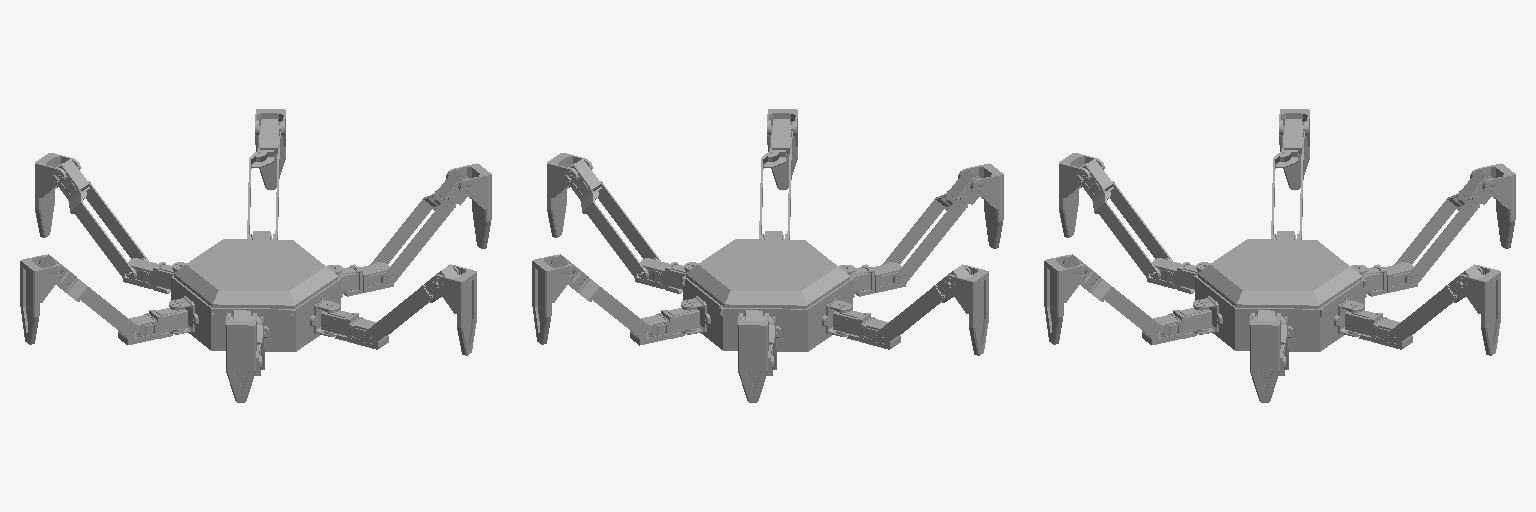
--- Facts derived from the render (not from the file) ---
3 views of the same robot in one strip: view 1: azimuth 30°, elevation 25°; view 2: azimuth 150°, elevation 25°; view 3: azimuth 270°, elevation 25° (orthographic).
Model hexapod_description with 25 links and 24 joints (17 revolute, 1 continuous, 6 fixed), rooted at base_link, posed every joint at zero.
Links seen in each view (by area): view 1: base_link, 5B_link, 3B_link, 1P_link, 2B_link, 6C_link, 6B_link, 2C_link, 4B_link, 2A_link, 6A_link, 5A_link (+6 smaller); view 2: base_link, 1B_link, 5B_link, 3C_link, 4B_link, 2B_link, 2C_link, 4C_link, 6B_link, 1C_link, 4A_link, 2A_link (+7 smaller); view 3: base_link, 3B_link, 1B_link, 5C_link, 6B_link, 4C_link, 4B_link, 6C_link, 1C_link, 2B_link, 6A_link, 4A_link (+5 smaller).
Boxes of the visible links, x1,y1,x2,y2 form: base_link: (169,239,342,351); 5B_link: (370,168,469,286); 3B_link: (56,159,148,281); 1P_link: (226,313,256,402); 2B_link: (37,254,143,341); 6C_link: (431,266,476,355); 6B_link: (361,264,460,346); 2C_link: (20,255,65,344); 4B_link: (247,119,280,239); 2A_link: (118,308,187,344); 6A_link: (321,310,388,349); 5A_link: (338,262,393,296); base_link: (681,239,854,351); 1B_link: (882,168,981,286); 5B_link: (568,159,660,281); 3C_link: (738,313,768,402); 4B_link: (549,254,655,341); 2B_link: (873,264,972,346); 2C_link: (943,266,988,355); 4C_link: (532,255,577,344); 6B_link: (759,119,792,239); 1C_link: (958,163,1002,247); 4A_link: (630,308,699,345); 2A_link: (833,310,900,349); base_link: (1193,239,1366,351); 3B_link: (1394,168,1493,286); 1B_link: (1080,159,1172,281); 5C_link: (1250,313,1280,402); 6B_link: (1061,254,1167,341); 4C_link: (1455,266,1500,355); 4B_link: (1385,264,1484,346); 6C_link: (1044,255,1089,344); 1C_link: (1059,153,1104,237); 2B_link: (1271,119,1304,239); 6A_link: (1142,308,1211,344); 4A_link: (1345,310,1412,349).
Size in the robot's own frame: 0.7251 by 0.6664 by 0.1652 metres.
25 mesh visuals loaded from 25 distinct referenced files (25 binary STL).

The robot description file, URDF, robot "hexapod_description":
<?xml version="1.0" encoding="utf-8"?>
<robot
  name="hexapod_description">
  <link
    name="base_link">
    <inertial>
      <origin
        xyz="8.3132949968423E-09 -1.60645398483705E-07 0.0398545694413555"
        rpy="0 0 0" />
      <mass
        value="0.508188386188677" />
      <inertia
        ixx="0.00175052303771207"
        ixy="-2.89062175548116E-06"
        ixz="2.99462448397941E-10"
        iyy="0.00174770751625814"
        iyz="-7.33217095029747E-09"
        izz="0.00325955756407988" />
    </inertial>
    <visual>
      <origin
        xyz="0 0 0"
        rpy="0 0 0" />
      <geometry>
        <mesh
          filename="package://hexapod_description/meshes/base_link.STL" />
      </geometry>
      <material
        name="">
        <color
          rgba="0.698039215686274 0.698039215686274 0.698039215686274 1" />
      </material>
    </visual>
    <collision>
      <origin
        xyz="0 0 0"
        rpy="0 0 0" />
      <geometry>
        <mesh
          filename="package://hexapod_description/meshes/base_link.STL" />
      </geometry>
    </collision>
  </link>
  <link
    name="1A_link">
    <inertial>
      <origin
        xyz="0.0436333077262725 -0.000983429050531615 -0.00579099697381125"
        rpy="0 0 0" />
      <mass
        value="0.0329624380889454" />
      <inertia
        ixx="4.11063607279416E-06"
        ixy="2.02839323084862E-07"
        ixz="6.13000252409731E-07"
        iyy="1.17840539365979E-05"
        iyz="-2.65175105562365E-08"
        izz="1.16182136839027E-05" />
    </inertial>
    <visual>
      <origin
        xyz="0 0 0"
        rpy="0 0 0" />
      <geometry>
        <mesh
          filename="package://hexapod_description/meshes/1A_link.STL" />
      </geometry>
      <material
        name="">
        <color
          rgba="0.698039215686274 0.698039215686274 0.698039215686274 1" />
      </material>
    </visual>
    <collision>
      <origin
        xyz="0 0 0"
        rpy="0 0 0" />
      <geometry>
        <mesh
          filename="package://hexapod_description/meshes/1A_link.STL" />
      </geometry>
    </collision>
  </link>
  <joint
    name="1A_joint"
    type="revolute">
    <origin
      xyz="-0.066747 -0.10678 0.03165"
      rpy="0 0.035739 -2.1204" />
    <parent
      link="base_link" />
    <child
      link="1A_link" />
    <axis
      xyz="-0.035728 0 0.99936" />
    <limit
      lower="-1"
      upper="1"
      effort="0"
      velocity="0" />
  </joint>
  <link
    name="1B_link">
    <inertial>
      <origin
        xyz="0.101870838528152 -0.00274030558914196 -0.00335041003005071"
        rpy="0 0 0" />
      <mass
        value="0.0491658077507467" />
      <inertia
        ixx="7.62687797343541E-06"
        ixy="1.36433680022234E-05"
        ixz="6.32130646997768E-06"
        iyy="9.61295518656803E-05"
        iyz="-1.69463851792476E-06"
        izz="9.79816595400282E-05" />
    </inertial>
    <visual>
      <origin
        xyz="0 0 0"
        rpy="0 0 0" />
      <geometry>
        <mesh
          filename="package://hexapod_description/meshes/1B_link.STL" />
      </geometry>
      <material
        name="">
        <color
          rgba="0.698039215686274 0.698039215686274 0.698039215686274 1" />
      </material>
    </visual>
    <collision>
      <origin
        xyz="0 0 0"
        rpy="0 0 0" />
      <geometry>
        <mesh
          filename="package://hexapod_description/meshes/1B_link.STL" />
      </geometry>
    </collision>
  </link>
  <joint
    name="1B_joint"
    type="revolute">
    <origin
      xyz="0.075536 -0.001836 0"
      rpy="0.00047569 -0.82122 -0.0094139" />
    <parent
      link="1A_link" />
    <child
      link="1B_link" />
    <axis
      xyz="0 -1 0" />
    <limit
      lower="-1"
      upper="1"
      effort="0"
      velocity="0" />
  </joint>
  <link
    name="1C_link">
    <inertial>
      <origin
        xyz="0.0396589922531539 -0.000979703305875712 0.0183007881130968"
        rpy="0 0 0" />
      <mass
        value="0.0681025572602457" />
      <inertia
        ixx="1.84805656449333E-05"
        ixy="-2.67788613280572E-07"
        ixz="1.32337376294039E-05"
        iyy="7.41762250523367E-05"
        iyz="-9.11230813138536E-08"
        izz="7.94157570878884E-05" />
    </inertial>
    <visual>
      <origin
        xyz="0 0 0"
        rpy="0 0 0" />
      <geometry>
        <mesh
          filename="package://hexapod_description/meshes/1C_link.STL" />
      </geometry>
      <material
        name="">
        <color
          rgba="0.698039215686274 0.698039215686274 0.698039215686274 1" />
      </material>
    </visual>
    <collision>
      <origin
        xyz="0 0 0"
        rpy="0 0 0" />
      <geometry>
        <mesh
          filename="package://hexapod_description/meshes/1C_link.STL" />
      </geometry>
    </collision>
  </link>
  <joint
    name="1C_joint"
    type="revolute">
    <origin
      xyz="0.17108 -0.00665 0"
      rpy="3.1416 1.0908 3.1416" />
    <parent
      link="1B_link" />
    <child
      link="1C_link" />
    <axis
      xyz="0 -1 0" />
    <limit
      lower="-1"
      upper="1"
      effort="0"
      velocity="0" />
  </joint>
  <link
    name="1P_link">
    <inertial>
      <origin
        xyz="-0.0774005193641238 -0.000101516346325103 -0.00446200209805514"
        rpy="0 0 0" />
      <mass
        value="0.065522052028268" />
      <inertia
        ixx="1.63167104597987E-05"
        ixy="-2.27987502279929E-07"
        ixz="-6.6373217611144E-06"
        iyy="7.40141018310191E-05"
        iyz="-1.67439121756891E-07"
        izz="8.14120915733197E-05" />
    </inertial>
    <visual>
      <origin
        xyz="0 0 0"
        rpy="0 0 0" />
      <geometry>
        <mesh
          filename="package://hexapod_description/meshes/1P_link.STL" />
      </geometry>
      <material
        name="">
        <color
          rgba="0.698039215686274 0.698039215686274 0.698039215686274 1" />
      </material>
    </visual>
    <collision>
      <origin
        xyz="0 0 0"
        rpy="0 0 0" />
      <geometry>
        <mesh
          filename="package://hexapod_description/meshes/1P_link.STL" />
      </geometry>
    </collision>
  </link>
  <joint
    name="1P_joint"
    type="fixed">
    <origin
      xyz="0.11638 -0.00085 0"
      rpy="0 0.30547 0" />
    <parent
      link="1C_link" />
    <child
      link="1P_link" />
    <axis
      xyz="0 0 0" />
    <limit
      lower="-1"
      upper="1"
      effort="0"
      velocity="0" />
  </joint>
  <link
    name="2A_link">
    <inertial>
      <origin
        xyz="0.0430928267092412 -0.00540497612153903 0.0129538457442289"
        rpy="0 0 0" />
      <mass
        value="0.0329624385476769" />
      <inertia
        ixx="4.2842650710344E-06"
        ixy="9.70938519171719E-07"
        ixz="8.71458885550921E-07"
        iyy="1.16637820306486E-05"
        iyz="-1.23301625642984E-07"
        izz="1.15648566711477E-05" />
    </inertial>
    <visual>
      <origin
        xyz="0 0 0"
        rpy="0 0 0" />
      <geometry>
        <mesh
          filename="package://hexapod_description/meshes/2A_link.STL" />
      </geometry>
      <material
        name="">
        <color
          rgba="0.698039215686274 0.698039215686274 0.698039215686274 1" />
      </material>
    </visual>
    <collision>
      <origin
        xyz="0 0 0"
        rpy="0 0 0" />
      <geometry>
        <mesh
          filename="package://hexapod_description/meshes/2A_link.STL" />
      </geometry>
    </collision>
  </link>
  <joint
    name="2A_joint"
    type="continuous">
    <origin
      xyz="-0.12582 0.0044184 0.01135"
      rpy="0 0 -3.0654" />
    <parent
      link="base_link" />
    <child
      link="2A_link" />
    <axis
      xyz="0 0 1" />
    <limit
      lower="-1"
      upper="1"
      effort="0"
      velocity="0" />
  </joint>
  <link
    name="2B_link">
    <inertial>
      <origin
        xyz="0.101870758188408 -0.00274030552288767 -0.00335286713403343"
        rpy="0 0 0" />
      <mass
        value="0.0491658081930703" />
      <inertia
        ixx="7.62718300402873E-06"
        ixy="1.36433271242108E-05"
        ixz="6.32348587175763E-06"
        iyy="9.6129551905895E-05"
        iyz="-1.69496760520903E-06"
        izz="9.79813545530303E-05" />
    </inertial>
    <visual>
      <origin
        xyz="0 0 0"
        rpy="0 0 0" />
      <geometry>
        <mesh
          filename="package://hexapod_description/meshes/2B_link.STL" />
      </geometry>
      <material
        name="">
        <color
          rgba="0.698039215686274 0.698039215686274 0.698039215686274 1" />
      </material>
    </visual>
    <collision>
      <origin
        xyz="0 0 0"
        rpy="0 0 0" />
      <geometry>
        <mesh
          filename="package://hexapod_description/meshes/2B_link.STL" />
      </geometry>
    </collision>
  </link>
  <joint
    name="2B_joint"
    type="revolute">
    <origin
      xyz="0.074928 -0.009527 0.017601"
      rpy="0 -0.78551 -0.11127" />
    <parent
      link="2A_link" />
    <child
      link="2B_link" />
    <axis
      xyz="0 -1 0" />
    <limit
      lower="-1"
      upper="1"
      effort="0"
      velocity="0" />
  </joint>
  <link
    name="2C_link">
    <inertial>
      <origin
        xyz="0.0396696358786118 -0.000979703306244147 0.0182899254696576"
        rpy="0 0 0" />
      <mass
        value="0.068102557260246" />
      <inertia
        ixx="1.84768194960925E-05"
        ixy="-2.67775709069847E-07"
        ixz="1.3225109652228E-05"
        iyy="7.41762250523362E-05"
        iyz="-9.11609949592177E-08"
        izz="7.94195032367302E-05" />
    </inertial>
    <visual>
      <origin
        xyz="0 0 0"
        rpy="0 0 0" />
      <geometry>
        <mesh
          filename="package://hexapod_description/meshes/2C_link.STL" />
      </geometry>
      <material
        name="">
        <color
          rgba="0.698039215686274 0.698039215686274 0.698039215686274 1" />
      </material>
    </visual>
    <collision>
      <origin
        xyz="0 0 0"
        rpy="0 0 0" />
      <geometry>
        <mesh
          filename="package://hexapod_description/meshes/2C_link.STL" />
      </geometry>
    </collision>
  </link>
  <joint
    name="2C_joint"
    type="revolute">
    <origin
      xyz="0.1711 -0.00665 0"
      rpy="-3.1416 1.0906 -3.1416" />
    <parent
      link="2B_link" />
    <child
      link="2C_link" />
    <axis
      xyz="0 -1 0" />
    <limit
      lower="-1"
      upper="1"
      effort="0"
      velocity="0" />
  </joint>
  <link
    name="2P_link">
    <inertial>
      <origin
        xyz="-0.0774005193641238 -0.000101517727919047 -0.00446200215131309"
        rpy="0 0 0" />
      <mass
        value="0.0655220520282681" />
      <inertia
        ixx="1.63167104597985E-05"
        ixy="-2.27987461896302E-07"
        ixz="-6.63732176250068E-06"
        iyy="7.40141018330569E-05"
        iyz="-1.67439166770418E-07"
        izz="8.14120915712826E-05" />
    </inertial>
    <visual>
      <origin
        xyz="0 0 0"
        rpy="0 0 0" />
      <geometry>
        <mesh
          filename="package://hexapod_description/meshes/2P_link.STL" />
      </geometry>
      <material
        name="">
        <color
          rgba="0.698039215686274 0.698039215686274 0.698039215686274 1" />
      </material>
    </visual>
    <collision>
      <origin
        xyz="0 0 0"
        rpy="0 0 0" />
      <geometry>
        <mesh
          filename="package://hexapod_description/meshes/2P_link.STL" />
      </geometry>
    </collision>
  </link>
  <joint
    name="2P_joint"
    type="fixed">
    <origin
      xyz="0.11639 -0.00085 0"
      rpy="0 0.30533 0" />
    <parent
      link="2C_link" />
    <child
      link="2P_link" />
    <axis
      xyz="0 0 0" />
    <limit
      lower="-1"
      upper="1"
      effort="0"
      velocity="0" />
  </joint>
  <link
    name="3A_link">
    <inertial>
      <origin
        xyz="0.0436333079139021 -0.000983433795987143 -0.00579099682872819"
        rpy="0 0 0" />
      <mass
        value="0.0329624385357417" />
      <inertia
        ixx="4.11063610367343E-06"
        ixy="2.02839324882533E-07"
        ixz="6.13000250342798E-07"
        iyy="1.1784053976968E-05"
        iyz="-2.65175120067955E-08"
        izz="1.16182136968584E-05" />
    </inertial>
    <visual>
      <origin
        xyz="0 0 0"
        rpy="0 0 0" />
      <geometry>
        <mesh
          filename="package://hexapod_description/meshes/3A_link.STL" />
      </geometry>
      <material
        name="">
        <color
          rgba="0.698039215686274 0.698039215686274 0.698039215686274 1" />
      </material>
    </visual>
    <collision>
      <origin
        xyz="0 0 0"
        rpy="0 0 0" />
      <geometry>
        <mesh
          filename="package://hexapod_description/meshes/3A_link.STL" />
      </geometry>
    </collision>
  </link>
  <joint
    name="3A_joint"
    type="revolute">
    <origin
      xyz="-0.059099 0.11119 0.03165"
      rpy="0 0.035732 2.0683" />
    <parent
      link="base_link" />
    <child
      link="3A_link" />
    <axis
      xyz="-0.035728 0 0.99936" />
    <limit
      lower="-1"
      upper="1"
      effort="0"
      velocity="0" />
  </joint>
  <link
    name="3B_link">
    <inertial>
      <origin
        xyz="0.101870758152179 -0.0027403055212869 -0.00335286720269334"
        rpy="0 0 0" />
      <mass
        value="0.0491658081987106" />
      <inertia
        ixx="7.62718300690091E-06"
        ixy="1.36433271238362E-05"
        ixz="6.32348589089637E-06"
        iyy="9.61295519062814E-05"
        iyz="-1.69496760811594E-06"
        izz="9.79813545505293E-05" />
    </inertial>
    <visual>
      <origin
        xyz="0 0 0"
        rpy="0 0 0" />
      <geometry>
        <mesh
          filename="package://hexapod_description/meshes/3B_link.STL" />
      </geometry>
      <material
        name="">
        <color
          rgba="0.698039215686274 0.698039215686274 0.698039215686274 1" />
      </material>
    </visual>
    <collision>
      <origin
        xyz="0 0 0"
        rpy="0 0 0" />
      <geometry>
        <mesh
          filename="package://hexapod_description/meshes/3B_link.STL" />
      </geometry>
    </collision>
  </link>
  <joint
    name="3B_joint"
    type="revolute">
    <origin
      xyz="0.075536 -0.001836 0"
      rpy="0.0004757 -0.82124 -0.0094139" />
    <parent
      link="3A_link" />
    <child
      link="3B_link" />
    <axis
      xyz="5.4838E-05 -1 -5.485E-05" />
    <limit
      lower="-1"
      upper="1"
      effort="0"
      velocity="0" />
  </joint>
  <link
    name="3C_link">
    <inertial>
      <origin
        xyz="0.0396696358757853 -0.000979703304661822 0.0182899254680321"
        rpy="0 0 0" />
      <mass
        value="0.0681025572602457" />
      <inertia
        ixx="1.84768194960843E-05"
        ixy="-2.67775708726413E-07"
        ixz="1.32251096522163E-05"
        iyy="7.41762250523397E-05"
        iyz="-9.11609950489801E-08"
        izz="7.94195032367347E-05" />
    </inertial>
    <visual>
      <origin
        xyz="0 0 0"
        rpy="0 0 0" />
      <geometry>
        <mesh
          filename="package://hexapod_description/meshes/3C_link.STL" />
      </geometry>
      <material
        name="">
        <color
          rgba="0.698039215686274 0.698039215686274 0.698039215686274 1" />
      </material>
    </visual>
    <collision>
      <origin
        xyz="0 0 0"
        rpy="0 0 0" />
      <geometry>
        <mesh
          filename="package://hexapod_description/meshes/3C_link.STL" />
      </geometry>
    </collision>
  </link>
  <joint
    name="3C_joint"
    type="revolute">
    <origin
      xyz="0.1711 -0.00665 0"
      rpy="3.1416 1.0906 3.1416" />
    <parent
      link="3B_link" />
    <child
      link="3C_link" />
    <axis
      xyz="2.3315E-05 -1 7.3974E-05" />
    <limit
      lower="-1"
      upper="1"
      effort="0"
      velocity="0" />
  </joint>
  <link
    name="3P_link">
    <inertial>
      <origin
        xyz="-0.0774005194154543 -0.000101516673262747 -0.00446200216199027"
        rpy="0 0 0" />
      <mass
        value="0.0655220520282678" />
      <inertia
        ixx="1.63167104597984E-05"
        ixy="-2.27987492725121E-07"
        ixz="-6.63732176144121E-06"
        iyy="7.40141018315014E-05"
        iyz="-1.67439132409489E-07"
        izz="8.14120915728379E-05" />
    </inertial>
    <visual>
      <origin
        xyz="0 0 0"
        rpy="0 0 0" />
      <geometry>
        <mesh
          filename="package://hexapod_description/meshes/3P_link.STL" />
      </geometry>
      <material
        name="">
        <color
          rgba="0.698039215686274 0.698039215686274 0.698039215686274 1" />
      </material>
    </visual>
    <collision>
      <origin
        xyz="0 0 0"
        rpy="0 0 0" />
      <geometry>
        <mesh
          filename="package://hexapod_description/meshes/3P_link.STL" />
      </geometry>
    </collision>
  </link>
  <joint
    name="3P_joint"
    type="fixed">
    <origin
      xyz="0.11639 -0.00085 0"
      rpy="0 0.30533 0" />
    <parent
      link="3C_link" />
    <child
      link="3P_link" />
    <axis
      xyz="0 0 0" />
    <limit
      lower="-1"
      upper="1"
      effort="0"
      velocity="0" />
  </joint>
  <link
    name="4A_link">
    <inertial>
      <origin
        xyz="0.0436333077638231 -0.000983426215110494 -0.00579099697327434"
        rpy="0 0 0" />
      <mass
        value="0.0329624380888626" />
      <inertia
        ixx="4.11063607281274E-06"
        ixy="2.02839323083891E-07"
        ixz="6.13000252543518E-07"
        iyy="1.17840539365906E-05"
        iyz="-2.65175105588552E-08"
        izz="1.16182136838759E-05" />
    </inertial>
    <visual>
      <origin
        xyz="0 0 0"
        rpy="0 0 0" />
      <geometry>
        <mesh
          filename="package://hexapod_description/meshes/4A_link.STL" />
      </geometry>
      <material
        name="">
        <color
          rgba="0.698039215686274 0.698039215686274 0.698039215686274 1" />
      </material>
    </visual>
    <collision>
      <origin
        xyz="0 0 0"
        rpy="0 0 0" />
      <geometry>
        <mesh
          filename="package://hexapod_description/meshes/4A_link.STL" />
      </geometry>
    </collision>
  </link>
  <joint
    name="4A_joint"
    type="revolute">
    <origin
      xyz="0.066747 0.10678 0.03165"
      rpy="0 0.035732 1.0212" />
    <parent
      link="base_link" />
    <child
      link="4A_link" />
    <axis
      xyz="-0.035728 0 0.99936" />
    <limit
      lower="-1"
      upper="1"
      effort="0"
      velocity="0" />
  </joint>
  <link
    name="4B_link">
    <inertial>
      <origin
        xyz="0.101870757684529 -0.0027403055893247 -0.00335286721489159"
        rpy="0 0 0" />
      <mass
        value="0.049165807750671" />
      <inertia
        ixx="7.62718297342003E-06"
        ixy="1.36433271225648E-05"
        ixz="6.32348587421055E-06"
        iyy="9.61295518656705E-05"
        iyz="-1.69496760366067E-06"
        izz="9.79813545400391E-05" />
    </inertial>
    <visual>
      <origin
        xyz="0 0 0"
        rpy="0 0 0" />
      <geometry>
        <mesh
          filename="package://hexapod_description/meshes/4B_link.STL" />
      </geometry>
      <material
        name="">
        <color
          rgba="0.698039215686274 0.698039215686274 0.698039215686274 1" />
      </material>
    </visual>
    <collision>
      <origin
        xyz="0 0 0"
        rpy="0 0 0" />
      <geometry>
        <mesh
          filename="package://hexapod_description/meshes/4B_link.STL" />
      </geometry>
    </collision>
  </link>
  <joint
    name="4B_joint"
    type="revolute">
    <origin
      xyz="0.075536 -0.001836 0"
      rpy="0.00047571 -0.82125 -0.0094139" />
    <parent
      link="4A_link" />
    <child
      link="4B_link" />
    <axis
      xyz="-3.1787E-05 -1 3.1795E-05" />
    <limit
      lower="-1"
      upper="1"
      effort="0"
      velocity="0" />
  </joint>
  <link
    name="4C_link">
    <inertial>
      <origin
        xyz="0.0396696358785887 -0.000979703306299984 0.0182899254696444"
        rpy="0 0 0" />
      <mass
        value="0.0681025572602458" />
      <inertia
        ixx="1.84768194960873E-05"
        ixy="-2.67775709028505E-07"
        ixz="1.32251096522168E-05"
        iyy="7.4176225052337E-05"
        iyz="-9.11609949771886E-08"
        izz="7.94195032367349E-05" />
    </inertial>
    <visual>
      <origin
        xyz="0 0 0"
        rpy="0 0 0" />
      <geometry>
        <mesh
          filename="package://hexapod_description/meshes/4C_link.STL" />
      </geometry>
      <material
        name="">
        <color
          rgba="0.698039215686274 0.698039215686274 0.698039215686274 1" />
      </material>
    </visual>
    <collision>
      <origin
        xyz="0 0 0"
        rpy="0 0 0" />
      <geometry>
        <mesh
          filename="package://hexapod_description/meshes/4C_link.STL" />
      </geometry>
    </collision>
  </link>
  <joint
    name="4C_joint"
    type="revolute">
    <origin
      xyz="0.1711 -0.00665 0"
      rpy="-3.1416 1.0906 -3.1416" />
    <parent
      link="4B_link" />
    <child
      link="4C_link" />
    <axis
      xyz="-1.3515E-05 -1 -4.288E-05" />
    <limit
      lower="-1"
      upper="1"
      effort="0"
      velocity="0" />
  </joint>
  <link
    name="4P_link">
    <inertial>
      <origin
        xyz="-0.0774005193575977 -0.000101517750093871 -0.00446200215934681"
        rpy="0 0 0" />
      <mass
        value="0.065522052028268" />
      <inertia
        ixx="1.63167104569614E-05"
        ixy="-2.27987461284517E-07"
        ixz="-6.63732174861027E-06"
        iyy="7.40141018330899E-05"
        iyz="-1.67439167444342E-07"
        izz="8.14120915740874E-05" />
    </inertial>
    <visual>
      <origin
        xyz="0 0 0"
        rpy="0 0 0" />
      <geometry>
        <mesh
          filename="package://hexapod_description/meshes/4P_link.STL" />
      </geometry>
      <material
        name="">
        <color
          rgba="0.698039215686274 0.698039215686274 0.698039215686274 1" />
      </material>
    </visual>
    <collision>
      <origin
        xyz="0 0 0"
        rpy="0 0 0" />
      <geometry>
        <mesh
          filename="package://hexapod_description/meshes/4P_link.STL" />
      </geometry>
    </collision>
  </link>
  <joint
    name="4P_joint"
    type="fixed">
    <origin
      xyz="0.11639 -0.00085 0"
      rpy="0 0.30533 0" />
    <parent
      link="4C_link" />
    <child
      link="4P_link" />
    <axis
      xyz="0 0 0" />
    <limit
      lower="-1"
      upper="1"
      effort="0"
      velocity="0" />
  </joint>
  <link
    name="5A_link">
    <inertial>
      <origin
        xyz="0.0436333076356487 -0.00098345668111122 -0.00579099684997697"
        rpy="0 0 0" />
      <mass
        value="0.0329624385477412" />
      <inertia
        ixx="4.11063610342843E-06"
        ixy="2.02839325081659E-07"
        ixz="6.13000247996769E-07"
        iyy="1.17840539747078E-05"
        iyz="-2.65175114774486E-08"
        izz="1.16182136946807E-05" />
    </inertial>
    <visual>
      <origin
        xyz="0 0 0"
        rpy="0 0 0" />
      <geometry>
        <mesh
          filename="package://hexapod_description/meshes/5A_link.STL" />
      </geometry>
      <material
        name="">
        <color
          rgba="0.698039215686274 0.698039215686274 0.698039215686274 1" />
      </material>
    </visual>
    <collision>
      <origin
        xyz="0 0 0"
        rpy="0 0 0" />
      <geometry>
        <mesh
          filename="package://hexapod_description/meshes/5A_link.STL" />
      </geometry>
    </collision>
  </link>
  <joint
    name="5A_joint"
    type="revolute">
    <origin
      xyz="0.12585 -0.0044158 0.03165"
      rpy="0 0.035736 -0.026443" />
    <parent
      link="base_link" />
    <child
      link="5A_link" />
    <axis
      xyz="-0.035728 0 0.99936" />
    <limit
      lower="-1"
      upper="1"
      effort="0"
      velocity="0" />
  </joint>
  <link
    name="5B_link">
    <inertial>
      <origin
        xyz="0.101870757949128 -0.00274030552277019 -0.00335286752119701"
        rpy="0 0 0" />
      <mass
        value="0.0491658081930705" />
      <inertia
        ixx="7.62718301928522E-06"
        ixy="1.36433271221595E-05"
        ixz="6.32348598076936E-06"
        iyy="9.6129551905897E-05"
        iyz="-1.69496762166919E-06"
        izz="9.79813545377717E-05" />
    </inertial>
    <visual>
      <origin
        xyz="0 0 0"
        rpy="0 0 0" />
      <geometry>
        <mesh
          filename="package://hexapod_description/meshes/5B_link.STL" />
      </geometry>
      <material
        name="">
        <color
          rgba="0.698039215686274 0.698039215686274 0.698039215686274 1" />
      </material>
    </visual>
    <collision>
      <origin
        xyz="0 0 0"
        rpy="0 0 0" />
      <geometry>
        <mesh
          filename="package://hexapod_description/meshes/5B_link.STL" />
      </geometry>
    </collision>
  </link>
  <joint
    name="5B_joint"
    type="revolute">
    <origin
      xyz="0.075536 -0.001836 0"
      rpy="0.00047569 -0.82121 -0.0094139" />
    <parent
      link="5A_link" />
    <child
      link="5B_link" />
    <axis
      xyz="0 -1 0" />
    <limit
      lower="-1"
      upper="1"
      effort="0"
      velocity="0" />
  </joint>
  <link
    name="5C_link">
    <inertial>
      <origin
        xyz="0.0396696358634261 -0.000979703306055839 0.0182899254606058"
        rpy="0 0 0" />
      <mass
        value="0.0681025572602457" />
      <inertia
        ixx="1.8476819496087E-05"
        ixy="-2.67775708985075E-07"
        ixz="1.32251096522173E-05"
        iyy="7.41762250523371E-05"
        iyz="-9.11609949870549E-08"
        izz="7.94195032367344E-05" />
    </inertial>
    <visual>
      <origin
        xyz="0 0 0"
        rpy="0 0 0" />
      <geometry>
        <mesh
          filename="package://hexapod_description/meshes/5C_link.STL" />
      </geometry>
      <material
        name="">
        <color
          rgba="0.698039215686274 0.698039215686274 0.698039215686274 1" />
      </material>
    </visual>
    <collision>
      <origin
        xyz="0 0 0"
        rpy="0 0 0" />
      <geometry>
        <mesh
          filename="package://hexapod_description/meshes/5C_link.STL" />
      </geometry>
    </collision>
  </link>
  <joint
    name="5C_joint"
    type="revolute">
    <origin
      xyz="0.1711 -0.00665 0"
      rpy="3.1416 1.0907 3.1416" />
    <parent
      link="5B_link" />
    <child
      link="5C_link" />
    <axis
      xyz="0 -1 0" />
    <limit
      lower="-1"
      upper="1"
      effort="0"
      velocity="0" />
  </joint>
  <link
    name="5P_link">
    <inertial>
      <origin
        xyz="-0.0774005193761778 -0.000101517543398827 -0.00446200215159187"
        rpy="0 0 0" />
      <mass
        value="0.065522052028268" />
      <inertia
        ixx="1.63167104607636E-05"
        ixy="-2.27987467278176E-07"
        ixz="-6.63732176704751E-06"
        iyy="7.40141018327849E-05"
        iyz="-1.67439160775431E-07"
        izz="8.14120915705898E-05" />
    </inertial>
    <visual>
      <origin
        xyz="0 0 0"
        rpy="0 0 0" />
      <geometry>
        <mesh
          filename="package://hexapod_description/meshes/5P_link.STL" />
      </geometry>
      <material
        name="">
        <color
          rgba="0.698039215686274 0.698039215686274 0.698039215686274 1" />
      </material>
    </visual>
    <collision>
      <origin
        xyz="0 0 0"
        rpy="0 0 0" />
      <geometry>
        <mesh
          filename="package://hexapod_description/meshes/5P_link.STL" />
      </geometry>
    </collision>
  </link>
  <joint
    name="5P_joint"
    type="fixed">
    <origin
      xyz="0.11639 -0.00085 0"
      rpy="0 0.30533 0" />
    <parent
      link="5C_link" />
    <child
      link="5P_link" />
    <axis
      xyz="0 0 0" />
    <limit
      lower="-1"
      upper="1"
      effort="0"
      velocity="0" />
  </joint>
  <link
    name="6A_link">
    <inertial>
      <origin
        xyz="0.0436333079867383 -0.000983428255767693 -0.0057909968276284"
        rpy="0 0 0" />
      <mass
        value="0.0329624385357485" />
      <inertia
        ixx="4.11063610371602E-06"
        ixy="2.02839324881721E-07"
        ixz="6.13000250602213E-07"
        iyy="1.17840539769681E-05"
        iyz="-2.65175120138815E-08"
        izz="1.16182136968163E-05" />
    </inertial>
    <visual>
      <origin
        xyz="0 0 0"
        rpy="0 0 0" />
      <geometry>
        <mesh
          filename="package://hexapod_description/meshes/6A_link.STL" />
      </geometry>
      <material
        name="">
        <color
          rgba="0.698039215686274 0.698039215686274 0.698039215686274 1" />
      </material>
    </visual>
    <collision>
      <origin
        xyz="0 0 0"
        rpy="0 0 0" />
      <geometry>
        <mesh
          filename="package://hexapod_description/meshes/6A_link.STL" />
      </geometry>
    </collision>
  </link>
  <joint
    name="6A_joint"
    type="revolute">
    <origin
      xyz="0.059099 -0.11119 0.03165"
      rpy="0 0.03574 -1.0732" />
    <parent
      link="base_link" />
    <child
      link="6A_link" />
    <axis
      xyz="-0.035728 0 0.99936" />
    <limit
      lower="-1"
      upper="1"
      effort="0"
      velocity="0" />
  </joint>
  <link
    name="6B_link">
    <inertial>
      <origin
        xyz="0.101870758200084 -0.00274030552203741 -0.0033528671253038"
        rpy="0 0 0" />
      <mass
        value="0.0491658081987123" />
      <inertia
        ixx="7.62718300386454E-06"
        ixy="1.36433271242787E-05"
        ixz="6.32348586912741E-06"
        iyy="9.61295519062704E-05"
        iyz="-1.6949676048313E-06"
        izz="9.79813545535768E-05" />
    </inertial>
    <visual>
      <origin
        xyz="0 0 0"
        rpy="0 0 0" />
      <geometry>
        <mesh
          filename="package://hexapod_description/meshes/6B_link.STL" />
      </geometry>
      <material
        name="">
        <color
          rgba="0.698039215686274 0.698039215686274 0.698039215686274 1" />
      </material>
    </visual>
    <collision>
      <origin
        xyz="0 0 0"
        rpy="0 0 0" />
      <geometry>
        <mesh
          filename="package://hexapod_description/meshes/6B_link.STL" />
      </geometry>
    </collision>
  </link>
  <joint
    name="6B_joint"
    type="revolute">
    <origin
      xyz="0.075536 -0.001836 0"
      rpy="0.00047571 -0.82125 -0.0094139" />
    <parent
      link="6A_link" />
    <child
      link="6B_link" />
    <axis
      xyz="0 -1 0" />
    <limit
      lower="-1"
      upper="1"
      effort="0"
      velocity="0" />
  </joint>
  <link
    name="6C_link">
    <inertial>
      <origin
        xyz="0.0396696358789481 -0.000979703306300261 0.0182899254698594"
        rpy="0 0 0" />
      <mass
        value="0.0681025572602456" />
      <inertia
        ixx="1.84768194960872E-05"
        ixy="-2.67775709028101E-07"
        ixz="1.32251096522167E-05"
        iyy="7.41762250523365E-05"
        iyz="-9.11609949772746E-08"
        izz="7.94195032367344E-05" />
    </inertial>
    <visual>
      <origin
        xyz="0 0 0"
        rpy="0 0 0" />
      <geometry>
        <mesh
          filename="package://hexapod_description/meshes/6C_link.STL" />
      </geometry>
      <material
        name="">
        <color
          rgba="0.698039215686274 0.698039215686274 0.698039215686274 1" />
      </material>
    </visual>
    <collision>
      <origin
        xyz="0 0 0"
        rpy="0 0 0" />
      <geometry>
        <mesh
          filename="package://hexapod_description/meshes/6C_link.STL" />
      </geometry>
    </collision>
  </link>
  <joint
    name="6C_joint"
    type="revolute">
    <origin
      xyz="0.1711 -0.00665 0"
      rpy="-3.1416 1.0906 3.1416" />
    <parent
      link="6B_link" />
    <child
      link="6C_link" />
    <axis
      xyz="0 -1 0" />
    <limit
      lower="-1"
      upper="1"
      effort="0"
      velocity="0" />
  </joint>
  <link
    name="6P_link">
    <inertial>
      <origin
        xyz="-0.0774005193641243 -0.000101517727918721 -0.00446200215131345"
        rpy="0 0 0" />
      <mass
        value="0.065522052028268" />
      <inertia
        ixx="1.63167104597986E-05"
        ixy="-2.27987461896634E-07"
        ixz="-6.63732176250068E-06"
        iyy="7.40141018330571E-05"
        iyz="-1.67439166770627E-07"
        izz="8.14120915712827E-05" />
    </inertial>
    <visual>
      <origin
        xyz="0 0 0"
        rpy="0 0 0" />
      <geometry>
        <mesh
          filename="package://hexapod_description/meshes/6P_link.STL" />
      </geometry>
      <material
        name="">
        <color
          rgba="0.698039215686274 0.698039215686274 0.698039215686274 1" />
      </material>
    </visual>
    <collision>
      <origin
        xyz="0 0 0"
        rpy="0 0 0" />
      <geometry>
        <mesh
          filename="package://hexapod_description/meshes/6P_link.STL" />
      </geometry>
    </collision>
  </link>
  <joint
    name="6P_joint"
    type="fixed">
    <origin
      xyz="0.11639 -0.00085 0"
      rpy="0 0.30533 0" />
    <parent
      link="6C_link" />
    <child
      link="6P_link" />
    <axis
      xyz="0 0 0" />
    <limit
      lower="-1"
      upper="1"
      effort="0"
      velocity="0" />
  </joint>
</robot>
